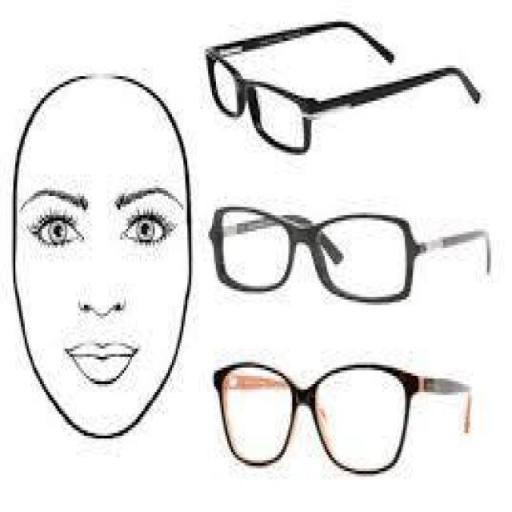glasses: (193, 9, 505, 173), (199, 335, 485, 493), (199, 174, 504, 316)
